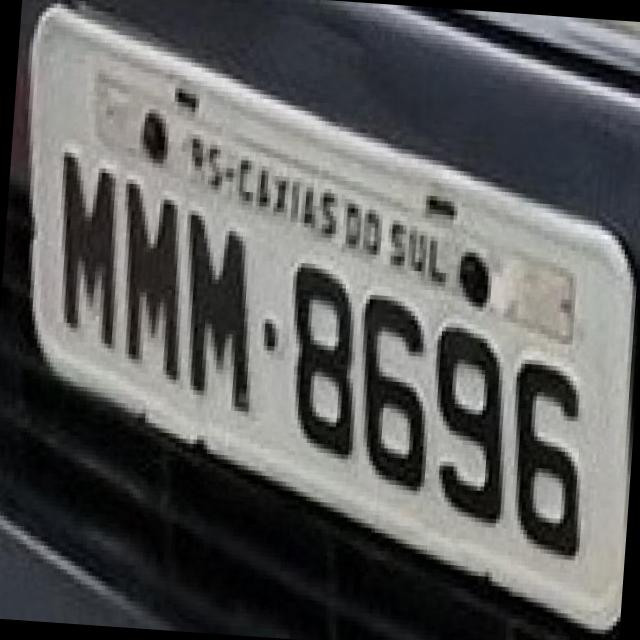6: (486, 335, 600, 556), (339, 275, 442, 491)
9: (410, 307, 520, 528)
B: (263, 239, 369, 455)
M: (160, 190, 266, 408), (32, 128, 130, 353), (102, 156, 192, 376)
